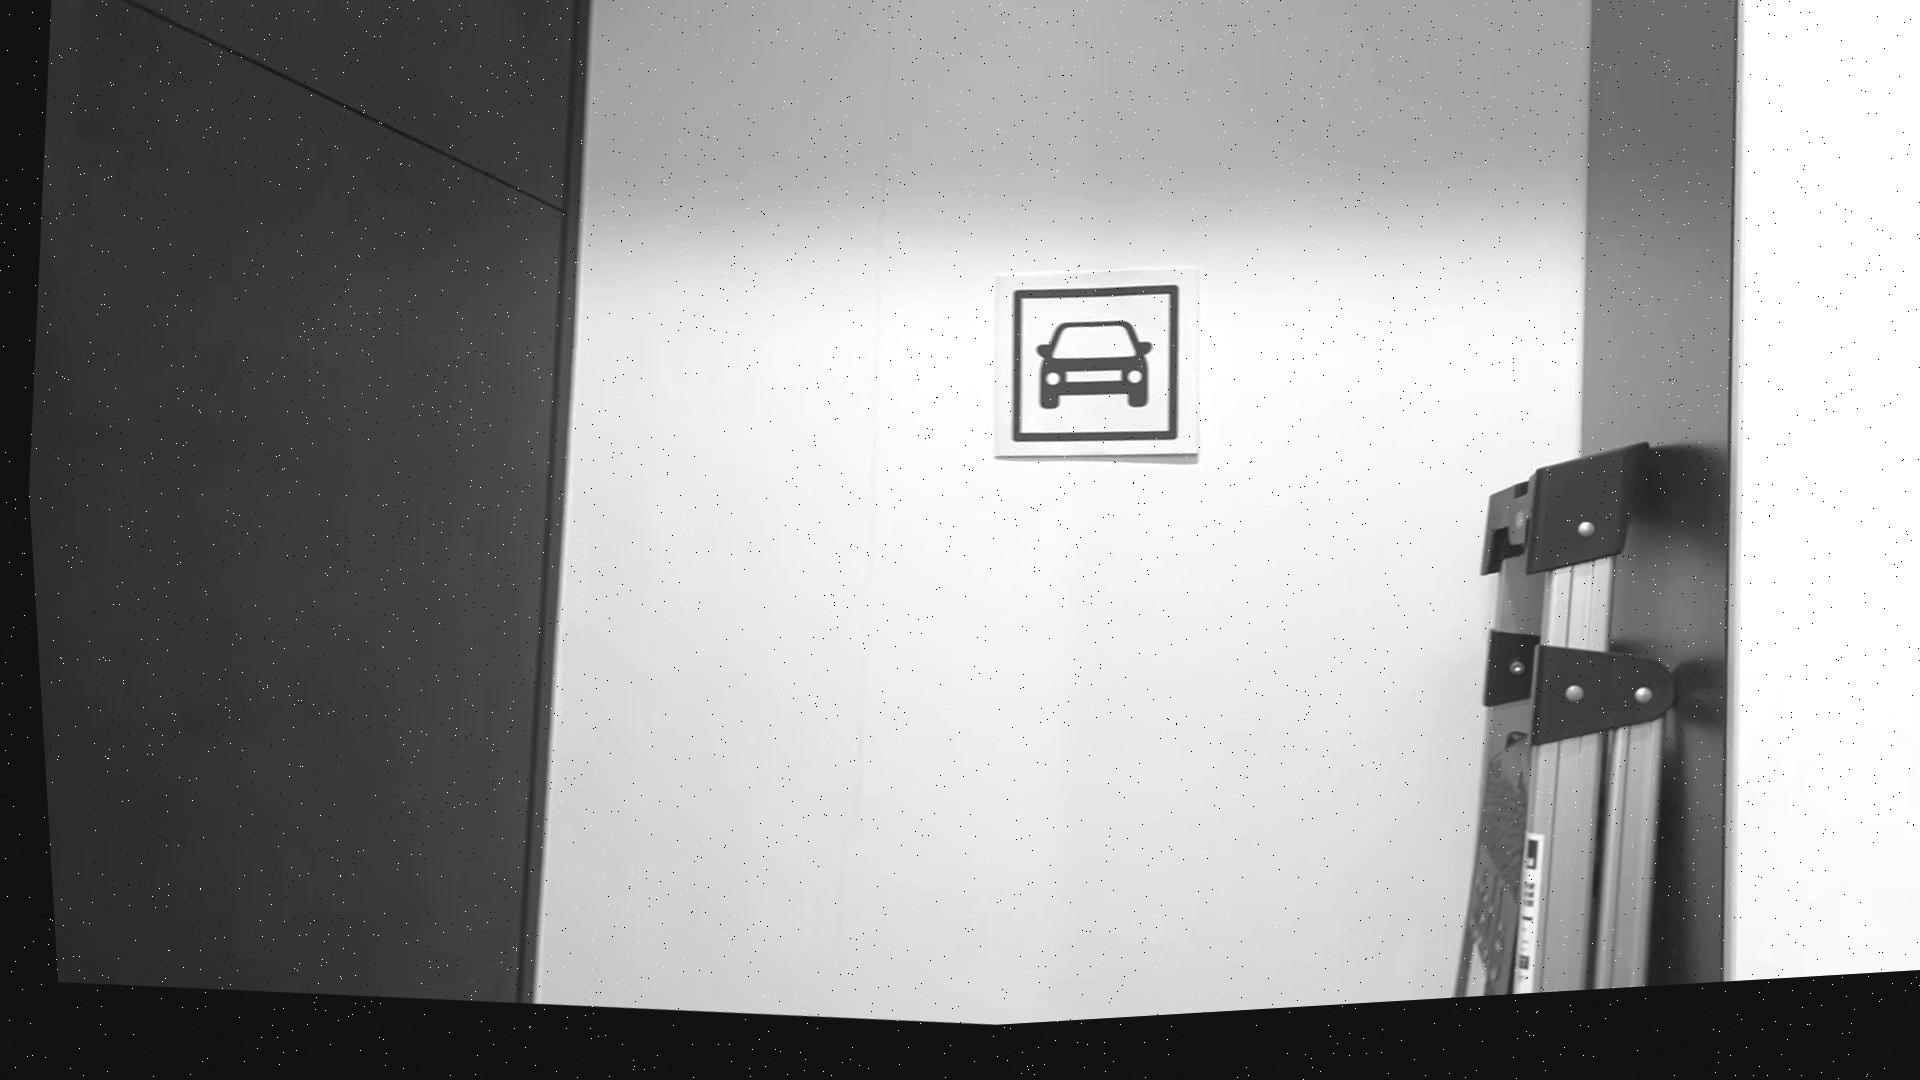car_img: (992, 281, 1188, 473)
